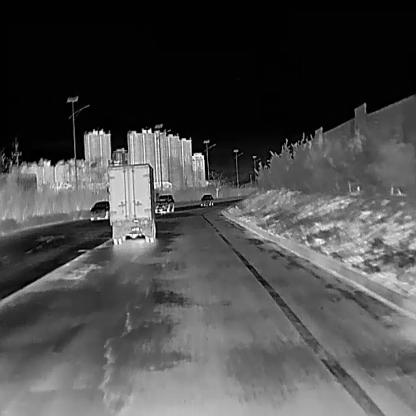car: (88, 200, 110, 219), (154, 193, 174, 212), (199, 194, 213, 206)
truck: (106, 162, 159, 244)
